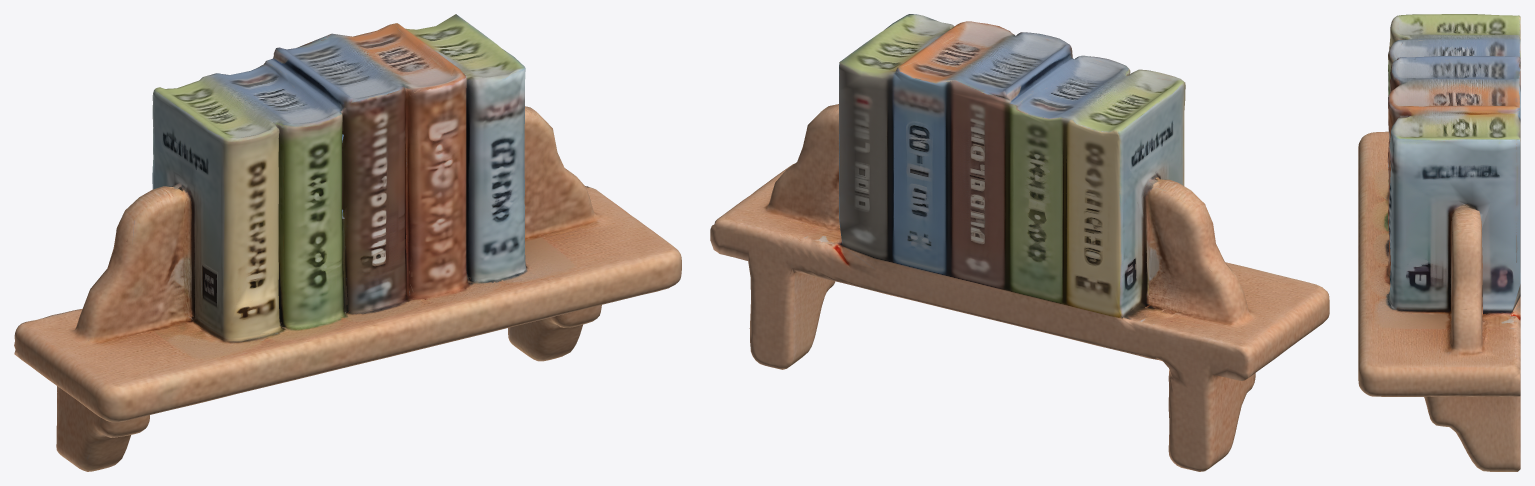
File: WallBooksShelf.glb
The picture shows the model from 3 angles, left to right: view 1: azimuth 30°, elevation 25°; view 2: azimuth 150°, elevation 25°; view 3: azimuth 270°, elevation 25°; orthographic projection. The views are drawn at different scales.
Bounding box in the file's own units: 2 × 1.18 × 0.5684.
Materials: 1 (1 with a texture image).
